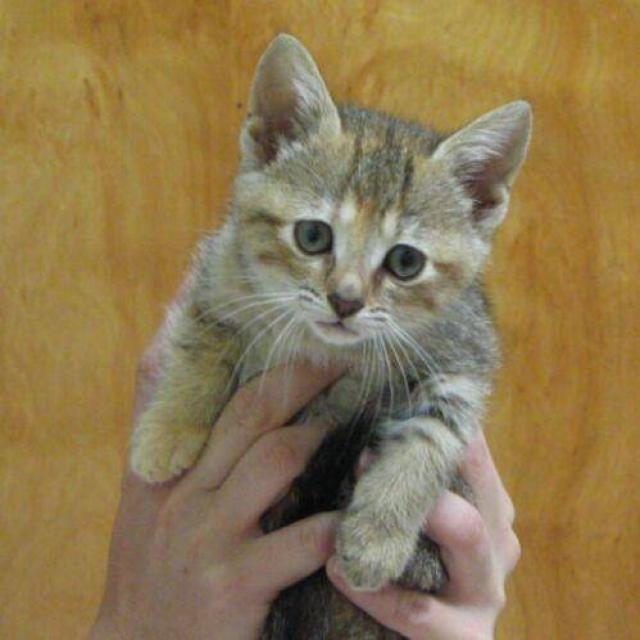cat: (127, 31, 532, 638)
